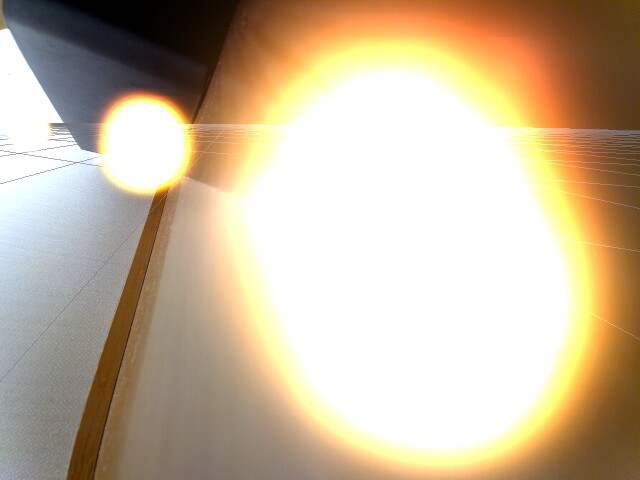firebig: (219, 31, 617, 473)
